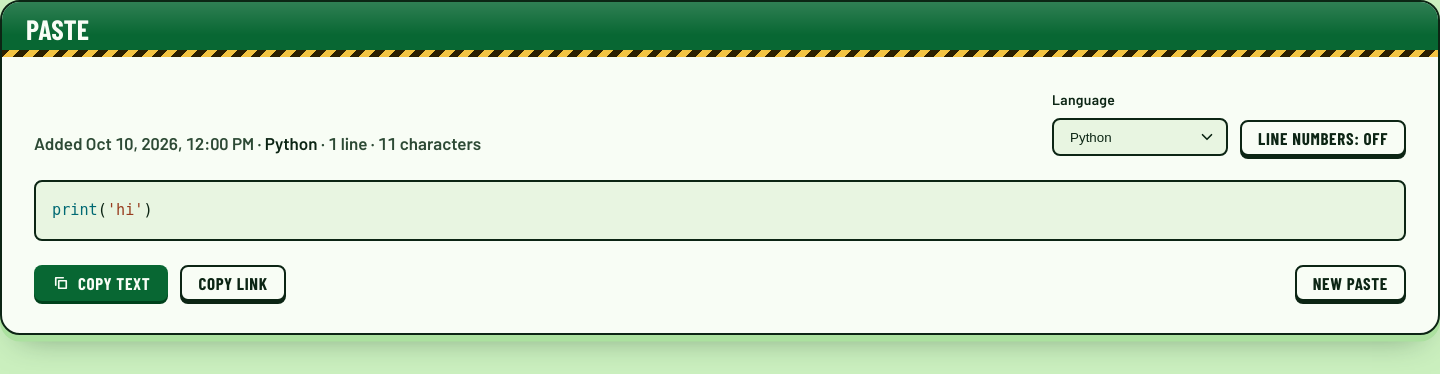
PasteViewer › languages › lets the owner change the language, showing the pick while it saves
The width and height of the screenshot is (1440, 374).
Select "Ruby" in the dropdown labelled "Language" at (1140, 138), box [1052,118,1228,156]
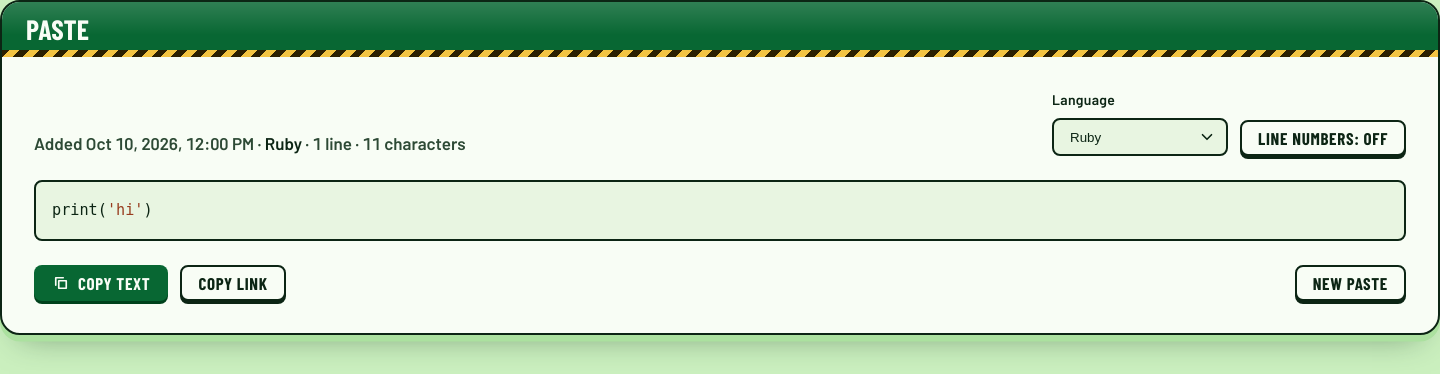
Result: the text with class "note__language" reads "Ruby" at [265,133,302,153]
